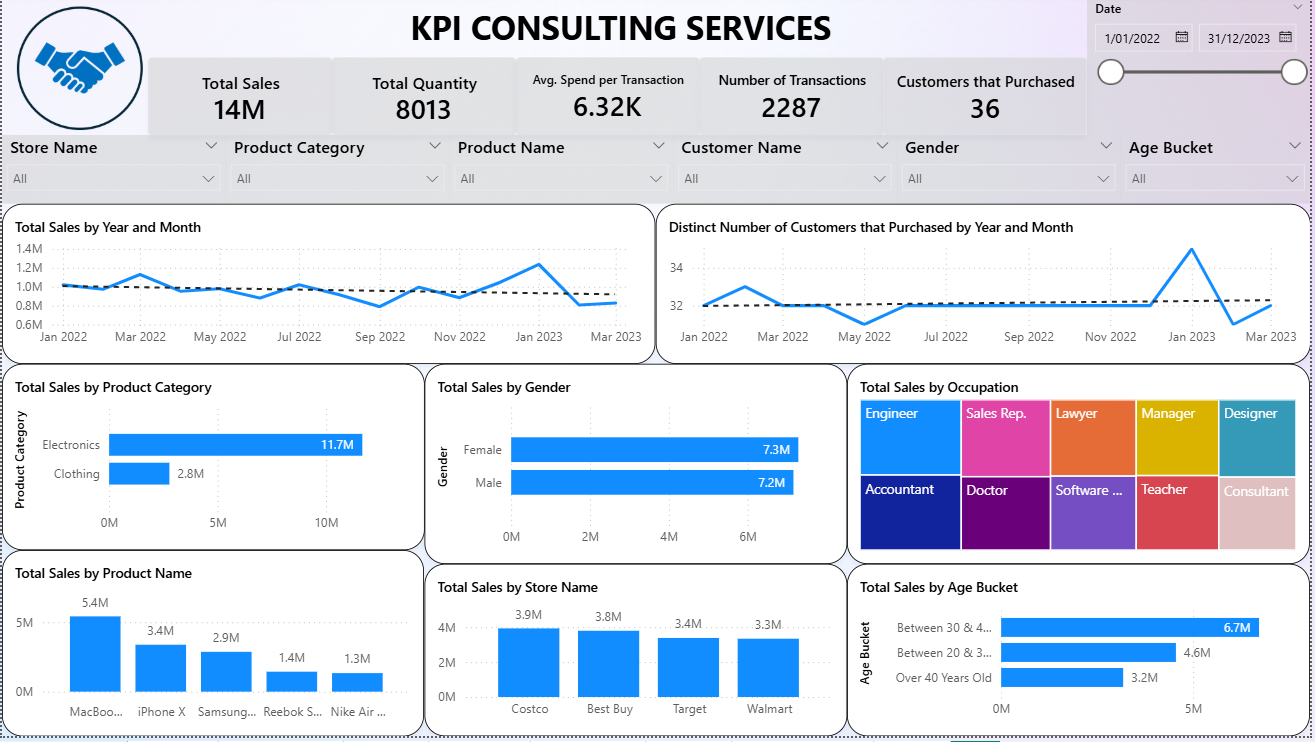

This screenshot's page, from the dashboard's own definition file:
{"tool":"powerbi","page":{"name":"Dashboard","canvas":[1280,720],"ordinal":1},"visuals":[{"type":"image","box":[9.8,0,133.3,133.3],"z":0},{"type":"textbox","box":[149.2,0,912.2,56.3],"z":1000},{"type":"slicer","fields":{"Values":["Stores.Store Name"]},"box":[0,132.1,218.9,67.3],"z":2000},{"type":"slicer","fields":{"Values":["Products.Product Category"]},"box":[218.9,132.1,218.9,67.3],"z":3000},{"type":"slicer","fields":{"Values":["Products.Product Name"]},"box":[437.8,132.1,218.9,67.3],"z":4000},{"type":"slicer","fields":{"Values":["Customers.Customer Name"]},"box":[656.7,132.1,218.9,67.3],"z":5000},{"type":"slicer","fields":{"Values":["Customers.Gender"]},"box":[875.5,132.1,218.9,67.3],"z":6000},{"type":"slicer","fields":{"Values":["Customers.Age Bucket"]},"box":[1094.4,132.1,184.6,67.3],"z":7000},{"type":"slicer","fields":{"Values":["Date.Date"]},"box":[1061.4,0,218.9,132.1],"z":8000},{"type":"card","title":"Total Sales","fields":{"Values":["_Measures.Total Sales"]},"box":[143.1,56.3,179.8,75.8],"z":9000},{"type":"card","title":"Total Quantity","fields":{"Values":["_Measures.Total Qty"]},"box":[322.8,56.3,179.8,75.8],"z":10000},{"type":"card","title":"Avg. Spend per Transaction","fields":{"Values":["_Measures.Average Sales Per Transaction"]},"box":[502.6,56.3,179.8,75.8],"z":11000},{"type":"card","title":"Number of Transactions","fields":{"Values":["_Measures.Number of Transactions"]},"box":[682.3,56.3,179.8,75.8],"z":12000},{"type":"card","title":"Customers that Purchased","fields":{"Values":["_Measures.Distinct Number of Customers that Purchased"]},"box":[862.1,56.3,199.3,75.8],"z":13000},{"type":"lineChart","fields":{"Y":["_Measures.Total Sales"],"Category":["Date.Date.Variation.Date Hierarchy.Year","Date.Date.Variation.Date Hierarchy.Month"]},"box":[0,199.3,639.5,156.5],"z":14000},{"type":"lineChart","fields":{"Y":["_Measures.Distinct Number of Customers that Purchased"],"Category":["Date.Date.Variation.Date Hierarchy.Year","Date.Date.Variation.Date Hierarchy.Month"]},"box":[639.5,199.3,640.8,156.5],"z":15000},{"type":"barChart","fields":{"Y":["_Measures.Total Sales"],"Category":["Products.Product Category"]},"box":[0,355.8,413.3,182.2],"z":16000},{"type":"barChart","fields":{"Y":["_Measures.Total Sales"],"Category":["Customers.Gender"]},"box":[413.3,355.8,413.3,195.7],"z":17000},{"type":"treemap","fields":{"Group":["Customers.Occupation"],"Values":["_Measures.Total Sales"]},"box":[826.6,355.8,452.4,195.7],"z":18000},{"type":"clusteredColumnChart","fields":{"Y":["_Measures.Total Sales"],"Category":["Products.Product Name"]},"box":[0,538,413,182],"z":19000},{"type":"clusteredColumnChart","fields":{"Y":["_Measures.Total Sales"],"Category":["Stores.Store Name"]},"box":[413.3,551.5,413.3,168.8],"z":20000},{"type":"barChart","fields":{"Category":["Customers.Age Bucket"],"Y":["_Measures.Total Sales"]},"box":[826.6,551.5,452.4,168.8],"z":21000}]}

Visuals, with their boxes in screenshot pixels (x1, y1, x2, y2), scaled from the page's 1280x720 canvas onto the 1315x742 screenshot:
image: (x1=10, y1=0, x2=147, y2=137)
textbox: (x1=153, y1=0, x2=1090, y2=58)
slicer - Stores.Store Name: (x1=0, y1=136, x2=225, y2=205)
slicer - Products.Product Category: (x1=225, y1=136, x2=450, y2=205)
slicer - Products.Product Name: (x1=450, y1=136, x2=675, y2=205)
slicer - Customers.Customer Name: (x1=675, y1=136, x2=900, y2=205)
slicer - Customers.Gender: (x1=899, y1=136, x2=1124, y2=205)
slicer - Customers.Age Bucket: (x1=1124, y1=136, x2=1314, y2=205)
slicer - Date.Date: (x1=1090, y1=0, x2=1314, y2=136)
"Total Sales" card: (x1=147, y1=58, x2=332, y2=136)
"Total Quantity" card: (x1=332, y1=58, x2=516, y2=136)
"Avg. Spend per Transaction" card: (x1=516, y1=58, x2=701, y2=136)
"Number of Transactions" card: (x1=701, y1=58, x2=886, y2=136)
"Customers that Purchased" card: (x1=886, y1=58, x2=1090, y2=136)
lineChart - _Measures.Total Sales x Date.Date.Variation.Date Hierarchy.Year: (x1=0, y1=205, x2=657, y2=367)
lineChart - _Measures.Distinct Number of Customers that Purchased x Date.Date.Variation.Date Hierarchy.Year: (x1=657, y1=205, x2=1314, y2=367)
barChart - _Measures.Total Sales x Products.Product Category: (x1=0, y1=367, x2=425, y2=554)
barChart - _Measures.Total Sales x Customers.Gender: (x1=425, y1=367, x2=849, y2=568)
treemap - Customers.Occupation x _Measures.Total Sales: (x1=849, y1=367, x2=1314, y2=568)
clusteredColumnChart - _Measures.Total Sales x Products.Product Name: (x1=0, y1=554, x2=424, y2=741)
clusteredColumnChart - _Measures.Total Sales x Stores.Store Name: (x1=425, y1=568, x2=849, y2=741)
barChart - Customers.Age Bucket x _Measures.Total Sales: (x1=849, y1=568, x2=1314, y2=741)
